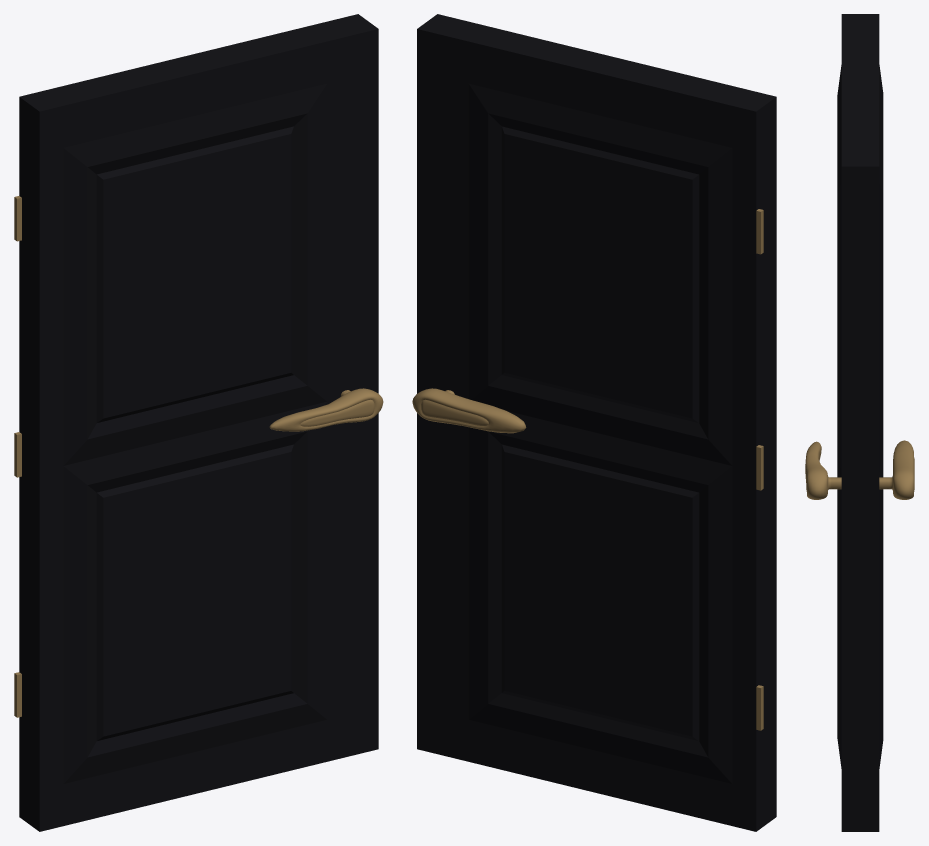
Rendered from Left_Door.fbx.
3 renders of one model, left to right at view 1: azimuth 30°, elevation 25°; view 2: azimuth 150°, elevation 25°; view 3: azimuth 270°, elevation 25°, orthographic. The views are drawn at different scales.
Visible parts, largest first — view 1: Puerta_Izq; view 2: Puerta_Izq; view 3: Puerta_Izq.
Boxes of the visible parts, <box> form: Puerta_Izq: <box>14,14,383,831</box>; Puerta_Izq: <box>412,14,776,831</box>; Puerta_Izq: <box>805,14,914,831</box>.
Bounding box in the file's own units: 99.91 × 200 × 29.76.
